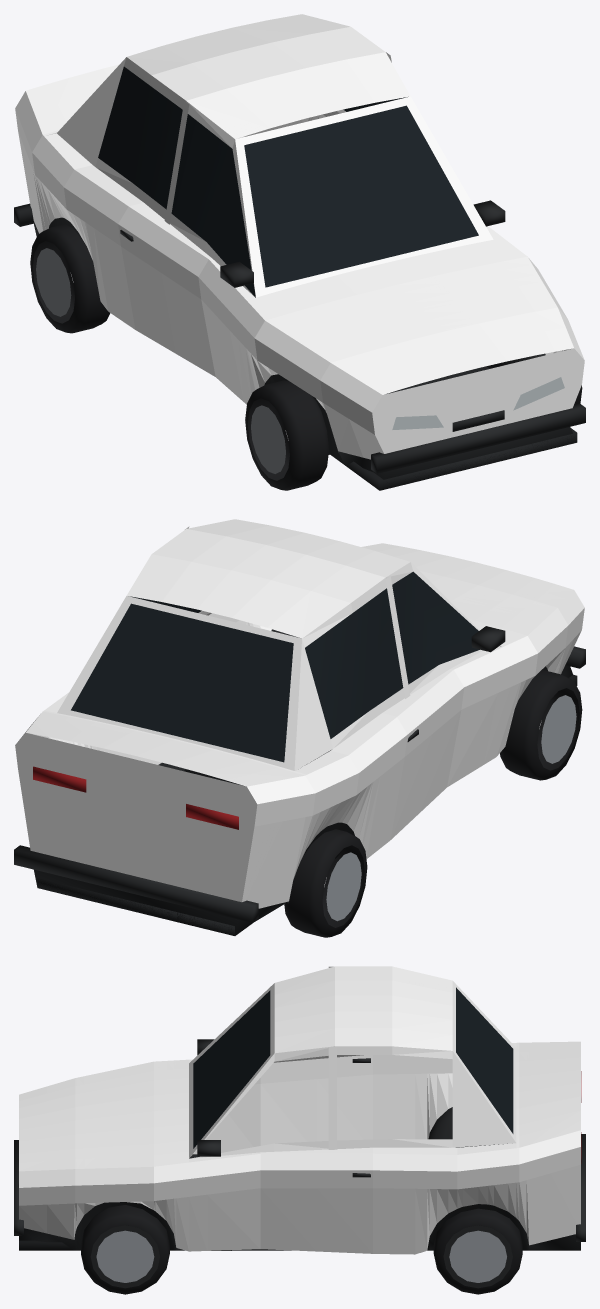
The model's file is mizuchi_teca.glb.
3 renders of one model, top to bottom at view 1: azimuth 30°, elevation 25°; view 2: azimuth 150°, elevation 25°; view 3: azimuth 270°, elevation 25°, orthographic. The views are drawn at different scales.
Parts seen in each view (by area): view 1: Body_Paint, Body_Details, Mount_FrontLeft_Wheel_Details, Mount_RearLeft_Wheel_Details; view 2: Body_Paint, Body_Details, Mount_RearLeft_Wheel_Details, Mount_FrontLeft_Wheel_Details; view 3: Body_Paint, Body_Details, Mount_FrontRight_Wheel_Details, Mount_RearRight_Wheel_Details.
Part boxes in pixels (x1,y1,x2,y2): Body_Paint: [15, 14, 584, 459]; Body_Details: [14, 66, 585, 490]; Mount_FrontLeft_Wheel_Details: [245, 380, 328, 490]; Mount_RearLeft_Wheel_Details: [30, 224, 110, 333]; Body_Paint: [15, 519, 584, 908]; Body_Details: [14, 571, 585, 935]; Mount_RearLeft_Wheel_Details: [284, 829, 367, 937]; Mount_FrontLeft_Wheel_Details: [500, 670, 582, 780]; Body_Paint: [19, 966, 580, 1254]; Body_Details: [14, 987, 585, 1250]; Mount_FrontRight_Wheel_Details: [81, 1205, 169, 1294]; Mount_RearRight_Wheel_Details: [433, 1208, 522, 1294].
Size of the model in its own units: 1.54 by 1.43 by 3.14.
Materials: 2 (1 with a texture image).
